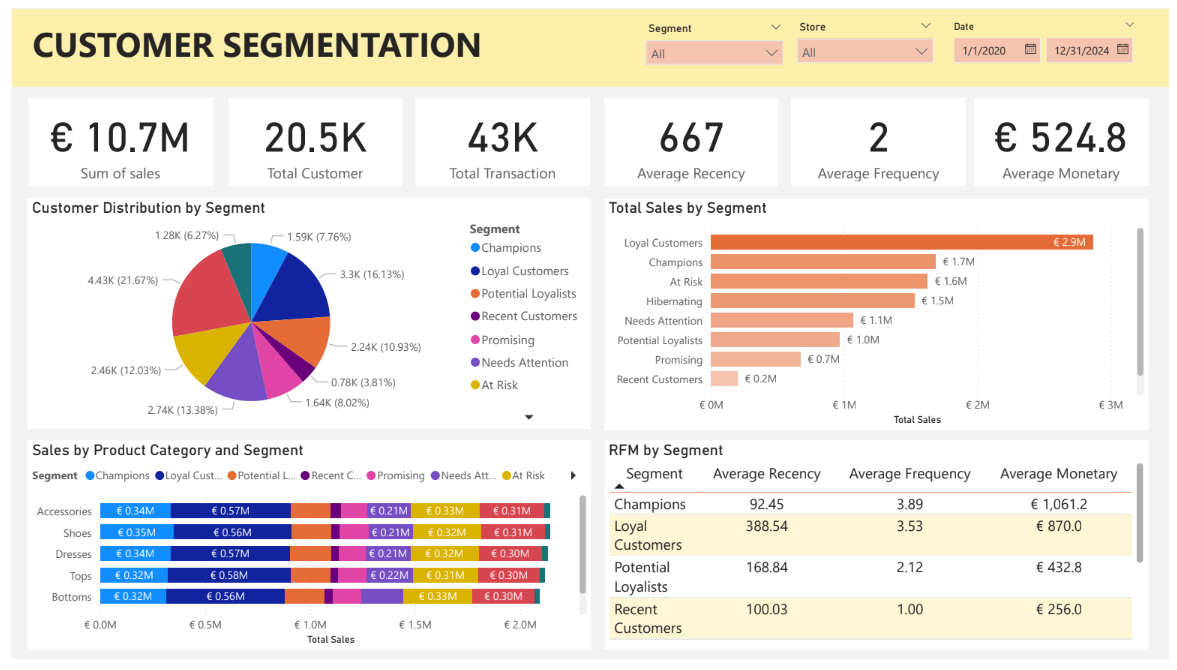

What the dashboard file says about the page in this screenshot:
{"tool":"powerbi","page":{"name":"Customer Segmentation","canvas":[1280,720],"ordinal":1},"visuals":[{"type":"pieChart","title":"Customer Distribution by Segment","fields":{"Y":["Count(df.customer_id)"],"Category":["SegmentOrder.Segment"]},"box":[17.8,210.5,623.4,254.2],"z":0},{"type":"barChart","title":"Total Sales by Segment","fields":{"Y":["Sum(df.sales)"],"Category":["SegmentOrder.Segment"]},"box":[655.8,210.5,602.4,255.8],"z":1000},{"type":"tableEx","title":"RFM by Segment","fields":{"Values":["SegmentOrder.Segment","Avg(rfm.recency)","Avg(rfm.frequency)","Avg(rfm.monetary)"]},"box":[655.8,477.7,602.4,231.5],"z":2000},{"type":"barChart","title":"Sales by Product Category and Segment","fields":{"Y":["Sum(df.sales)"],"Series":["SegmentOrder.Segment"],"Category":["df.category"]},"box":[17.8,477.7,623.4,231.5],"z":3000},{"type":"shape","box":[0,0,1280.8,85.8],"z":4000},{"type":"card","fields":{"Values":["Sum(df.sales)"]},"box":[17.8,98.8,205.6,97.2],"z":5000},{"type":"card","fields":{"Values":["Count(df.transaction_id)"]},"box":[446.9,98.8,192.7,97.2],"z":6000},{"type":"card","fields":{"Values":["Count(df.customer_id)"]},"box":[239.6,98.8,192.7,97.2],"z":7000},{"type":"card","fields":{"Values":["Avg(rfm.recency)"]},"box":[655.8,98.8,192.7,97.2],"z":8000},{"type":"card","fields":{"Values":["Avg(rfm.monetary)"]},"box":[1065.5,98.8,192.7,97.2],"z":9000},{"type":"card","fields":{"Values":["Avg(rfm.frequency)"]},"box":[863,98.8,192.7,97.2],"z":10000},{"type":"textbox","box":[0,8.1,544.1,71.2],"z":11000},{"type":"slicer","fields":{"Values":["DateTable.Date"]},"box":[1029.9,8.5,225.1,79.3],"z":12000,"group":"g1"},{"type":"group","id":"g1","title":"Group 1","box":[691.5,8.5,564.4,79.7],"z":12000},{"type":"slicer","fields":{"Values":["SegmentOrder.Segment"]},"box":[691.5,10.1,171.6,61.5],"z":13000,"group":"g1"},{"type":"slicer","fields":{"Values":["df.region"]},"box":[858.3,8.5,171.6,61.5],"z":14000,"group":"g1"}]}

Visuals, with their boxes in screenshot pixels (x1, y1, x2, y2), scaled from the page's 1280x720 canvas onto the 1177x670 screenshot:
"Customer Distribution by Segment" pieChart: bbox=(16, 196, 590, 432)
"Total Sales by Segment" barChart: bbox=(603, 196, 1157, 434)
"RFM by Segment" tableEx: bbox=(603, 445, 1157, 660)
"Sales by Product Category and Segment" barChart: bbox=(16, 445, 590, 660)
shape: bbox=(0, 0, 1176, 80)
card - Sum(df.sales): bbox=(16, 92, 205, 182)
card - Count(df.transaction_id): bbox=(411, 92, 588, 182)
card - Count(df.customer_id): bbox=(220, 92, 398, 182)
card - Avg(rfm.recency): bbox=(603, 92, 780, 182)
card - Avg(rfm.monetary): bbox=(980, 92, 1157, 182)
card - Avg(rfm.frequency): bbox=(794, 92, 971, 182)
textbox: bbox=(0, 8, 500, 74)
slicer - DateTable.Date: bbox=(947, 8, 1154, 82)
"Group 1" group: bbox=(636, 8, 1155, 82)
slicer - SegmentOrder.Segment: bbox=(636, 9, 794, 67)
slicer - df.region: bbox=(789, 8, 947, 65)
